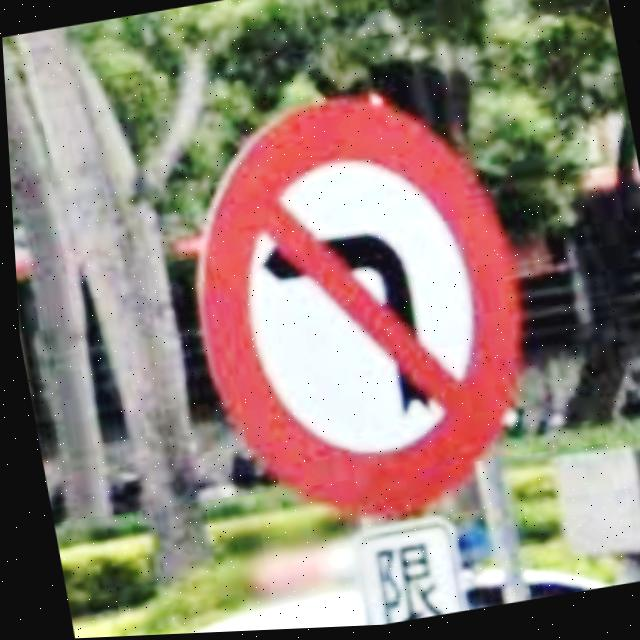noturnleft: (194, 101, 517, 525)
